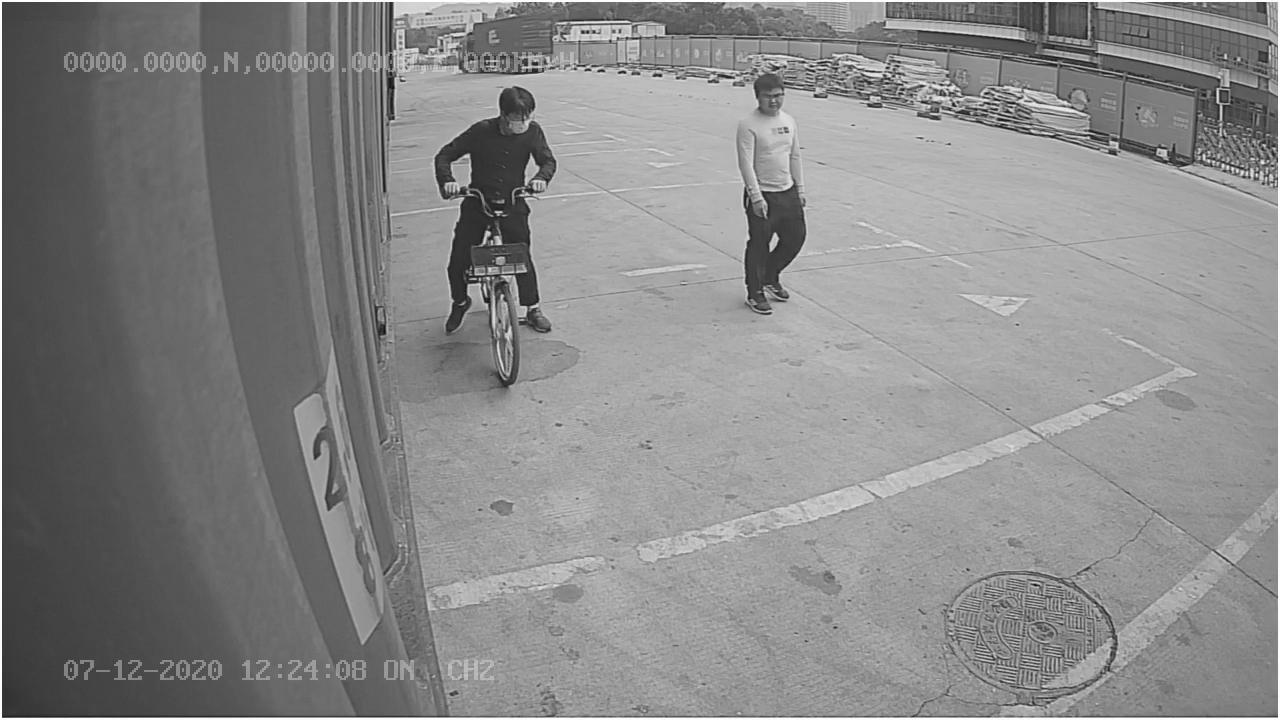person: (731, 73, 814, 317)
